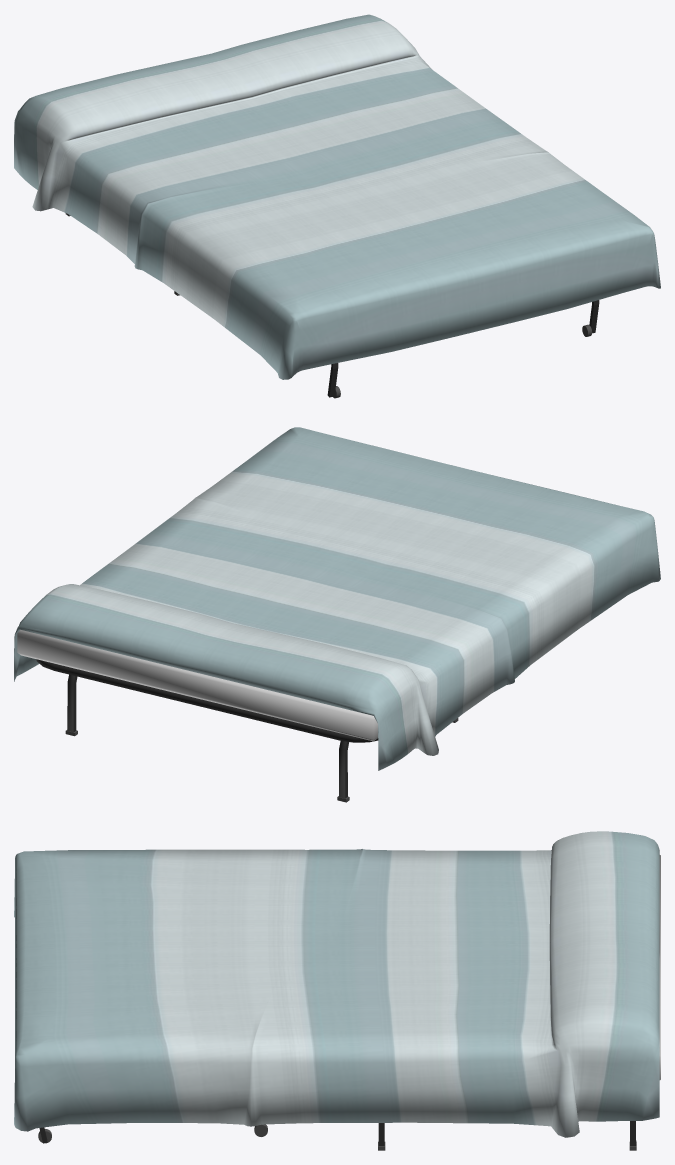
File: sh_scopia_convertible_sofa_bz_opened.glb
The picture shows the model from 3 angles, top to bottom: view 1: azimuth 30°, elevation 25°; view 2: azimuth 150°, elevation 25°; view 3: azimuth 270°, elevation 25°; orthographic projection. The views are drawn at different scales.
Size of the model in its own units: 1.58 by 0.478 by 1.9.
Materials: 4 (1 with a texture image).
